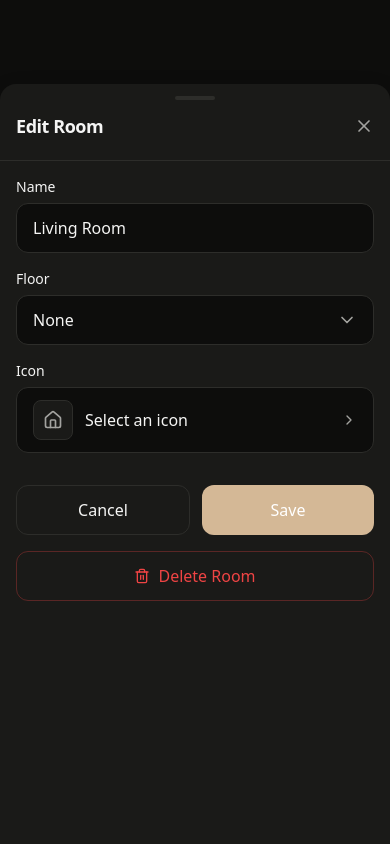
Test: RoomEditModal › should show error toast on API failure
In the field with placeholder "Living Room": (195, 228) top-left (16, 203), bottom-right (374, 253), type "New Name"
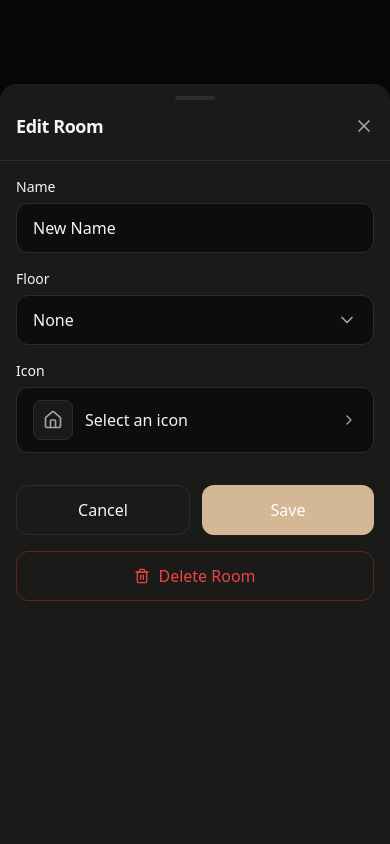
Click the button "Save": (288, 510) top-left (202, 485), bottom-right (374, 535)
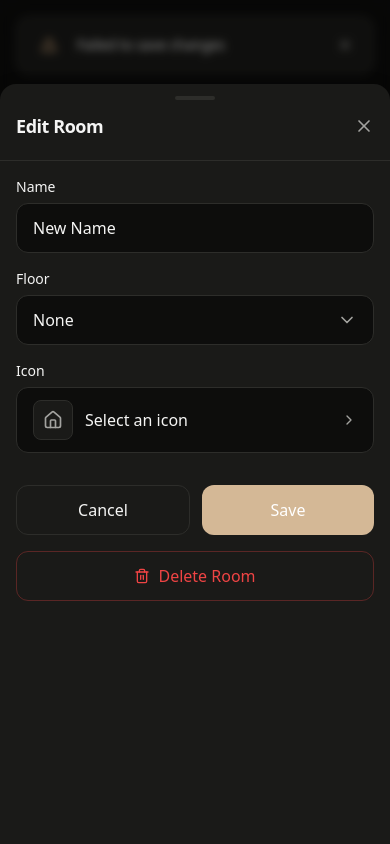
Expected: the text "Failed to save changes" is shown, top-left (77, 35), bottom-right (225, 54)
